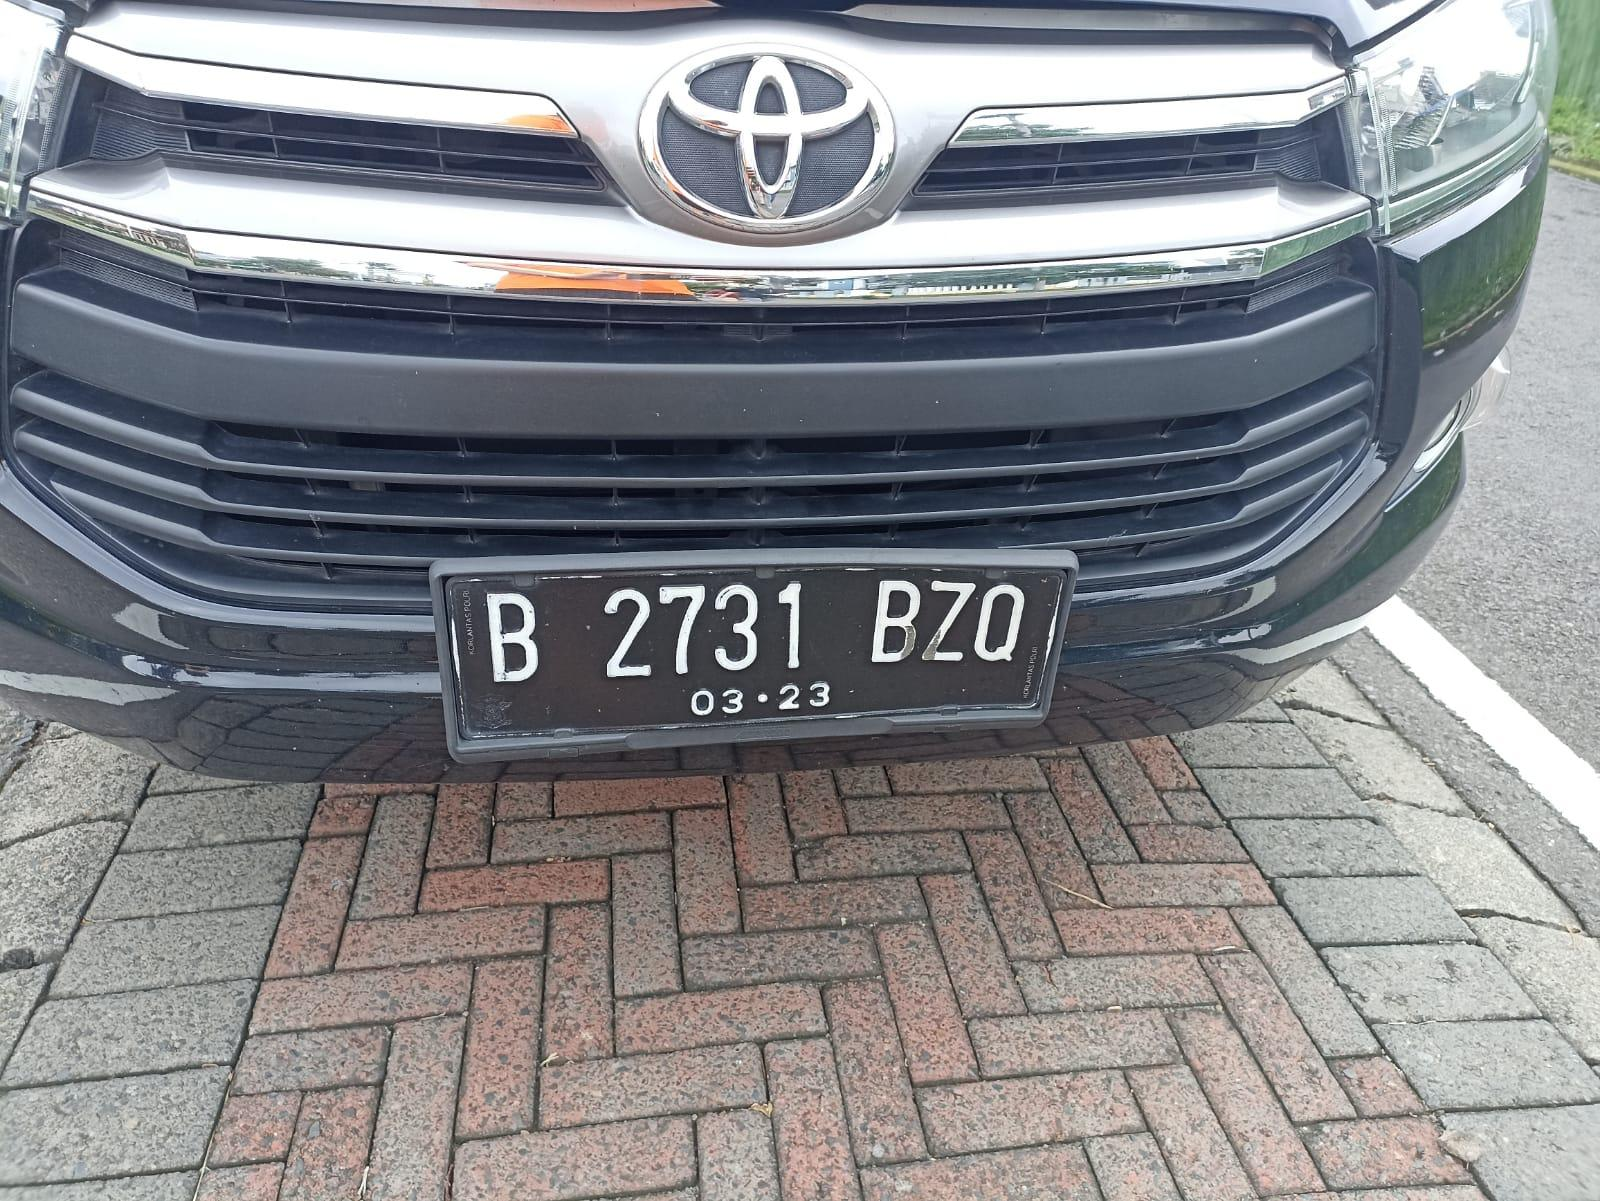plat: (432, 550, 1075, 762)
